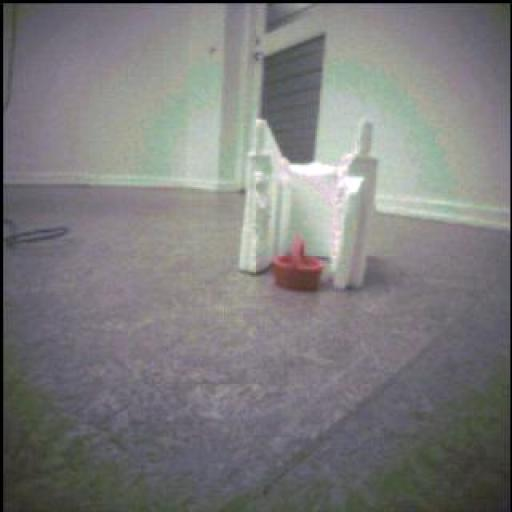Bucket: (273, 238, 324, 292)
